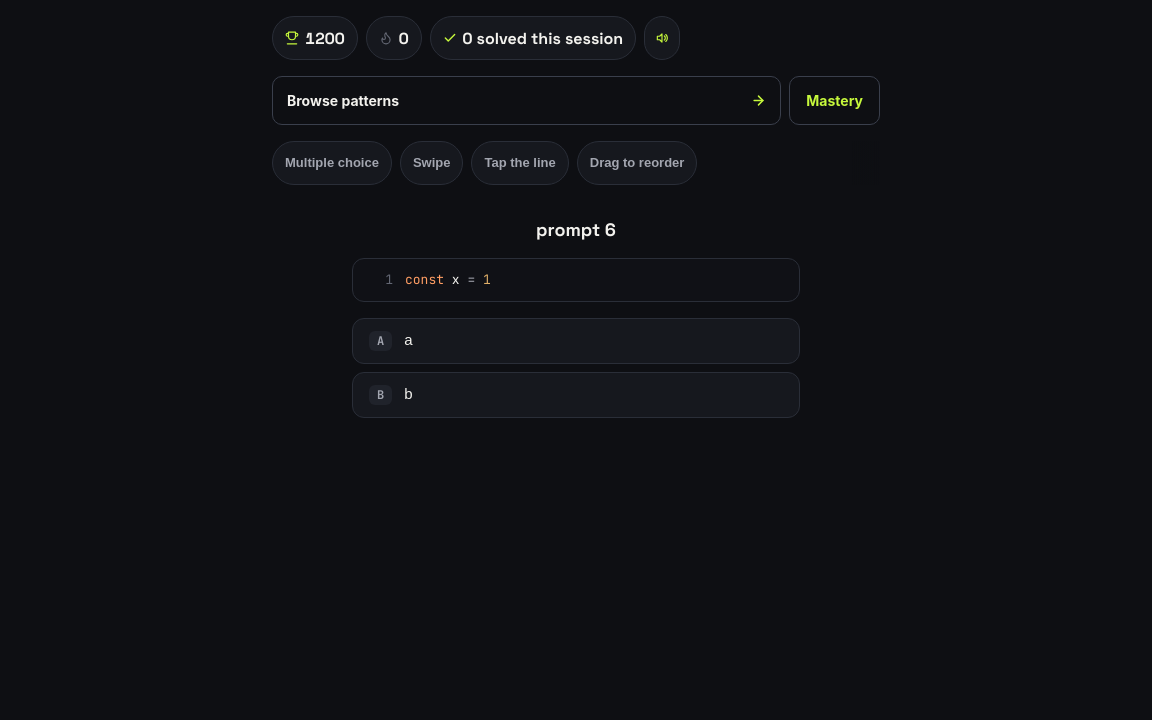
Test: PracticePage › shows a working "Challenge a friend" button after a correct answer that re-encodes the streak, prompting for a name on first use
Check: the text "prompt 6" is shown, box [536,218,616,241]
Check: the button "challenge a friend" is not shown
Step 1. Click the button "A a" → point(381, 341), box [352,318,800,364]
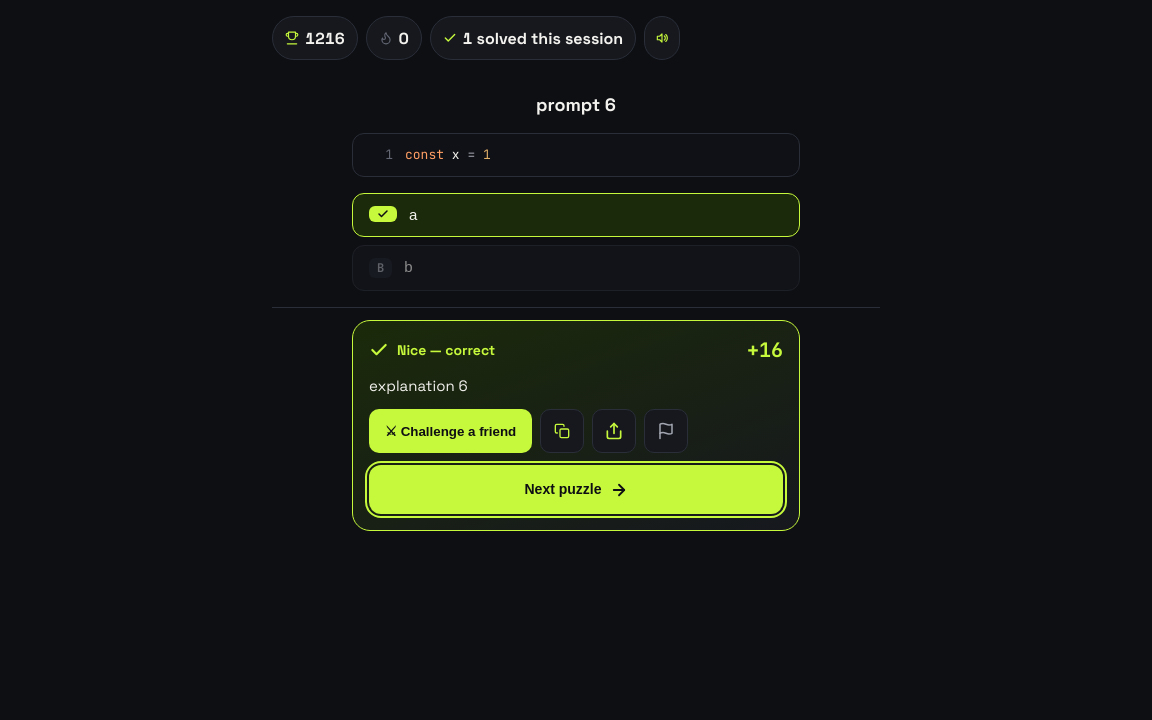
Check: the button "⚔ Challenge a friend" is shown
Step 2. Click the button "⚔ Challenge a friend" → point(451, 431), box [369,409,532,453]
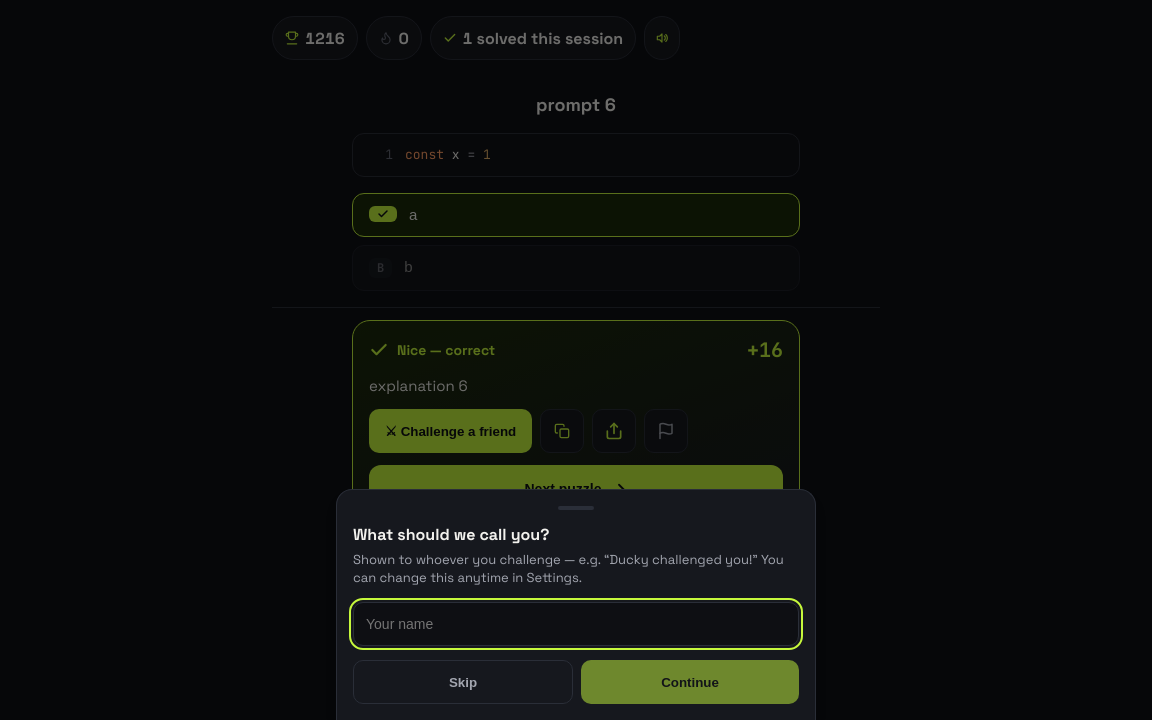
Check: the dialog named "Your name" is shown, box [336,489,816,719]
Step 3. Click the button "Skip" → point(463, 682), box [353,660,573,704]
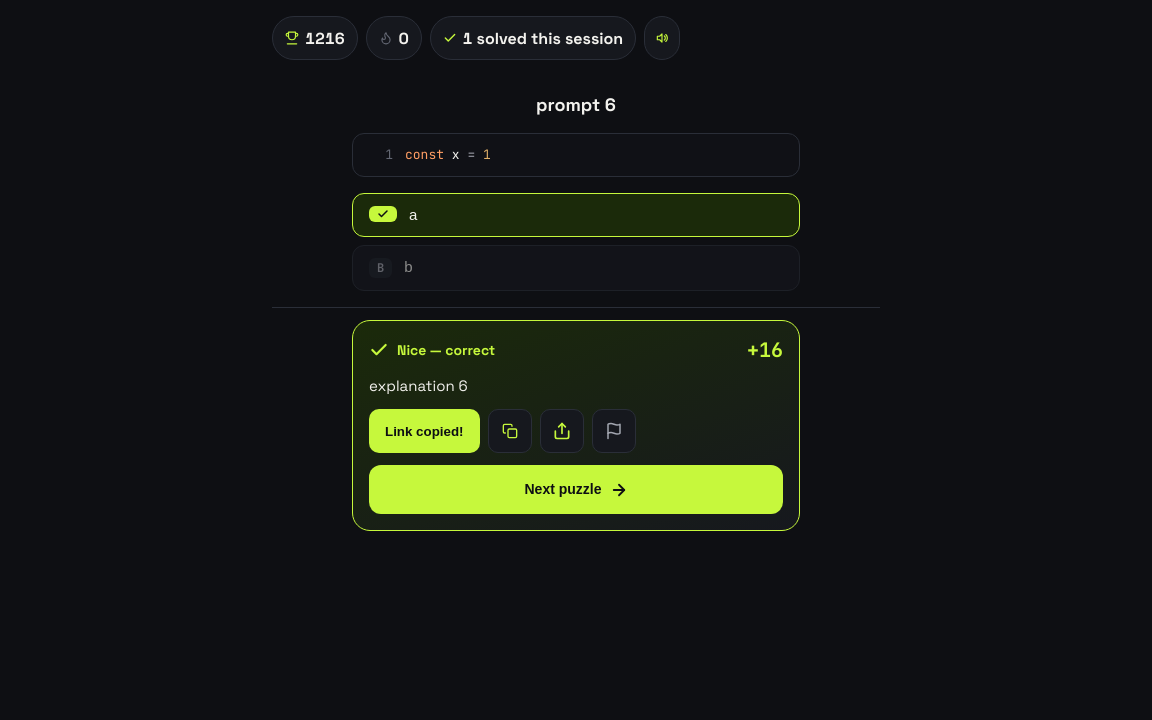
Check: the button "Link copied!" is shown, box [369,409,480,453]
